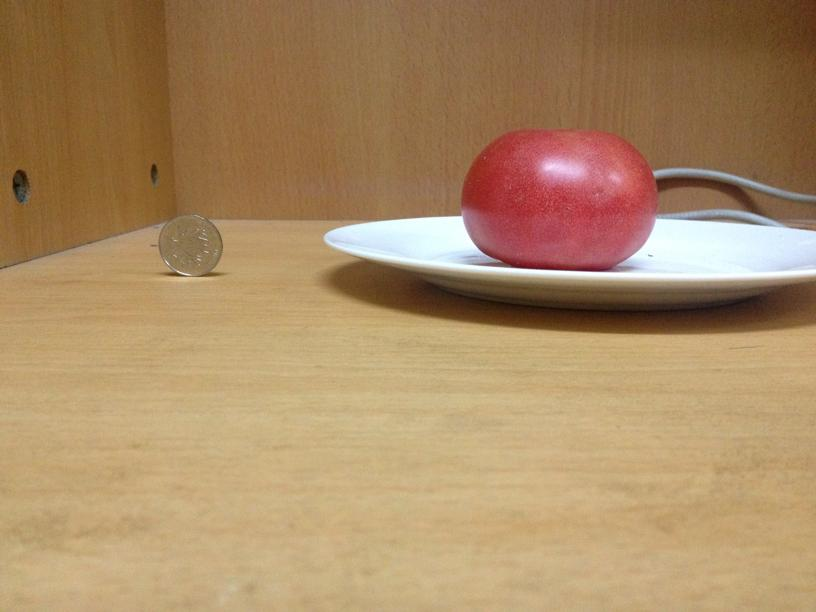coin: (156, 217, 227, 277)
tomato: (456, 130, 660, 270)
